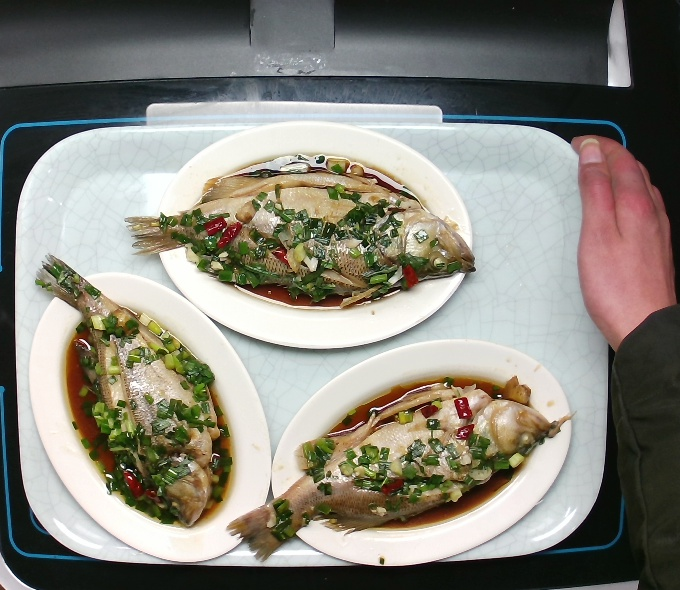wcq-LuYu: (224, 370, 579, 561), (29, 249, 243, 536), (117, 150, 480, 318)
